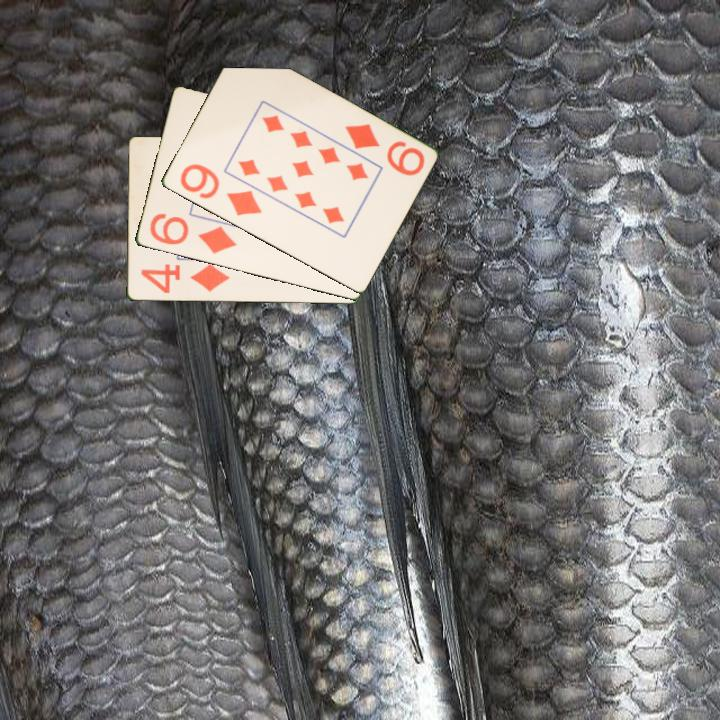4d: (137, 260, 232, 296)
6d: (146, 210, 239, 257)
9d: (176, 160, 265, 219), (341, 120, 427, 179)
